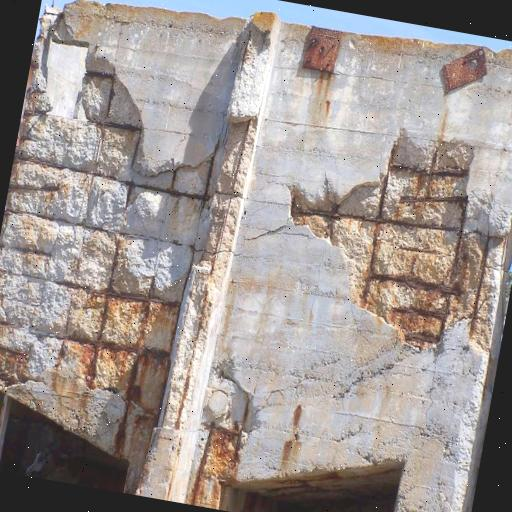spalling: (0, 67, 215, 428), (284, 127, 511, 360), (181, 362, 263, 505)
